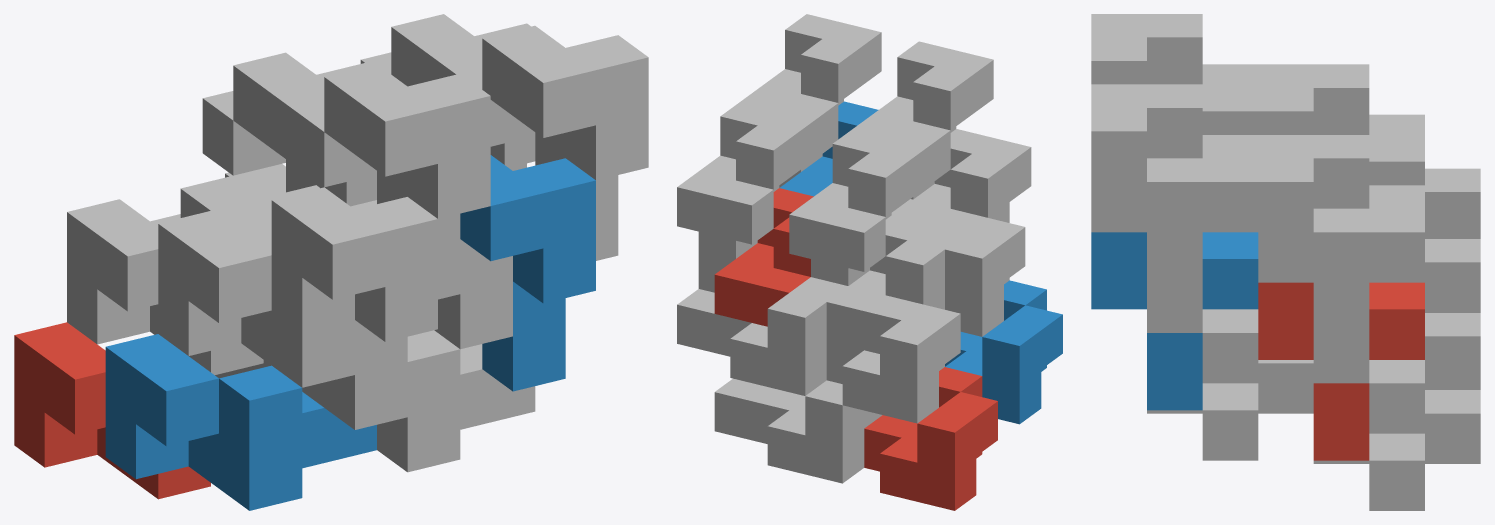
File: tiling.obj
The picture shows the model from 3 angles, left to right: view 1: azimuth 30°, elevation 25°; view 2: azimuth 150°, elevation 25°; view 3: azimuth 270°, elevation 25°; orthographic projection. The views are drawn at different scales.
Parts seen in each view (by area): view 1: copy_1_domain_2, copy_2_domain_2, copy_2_domain_4, copy_2_domain_8, copy_1_domain_4, copy_2_domain_6, copy_1_domain_1, copy_1_domain_3, copy_1_domain_6, copy_2_domain_3, copy_2_domain_7, copy_1_domain_8 (+2 smaller); view 2: copy_2_domain_7, copy_2_domain_3, copy_1_domain_1, copy_1_domain_7, copy_1_domain_5, copy_1_domain_3, copy_2_domain_8, copy_2_domain_4, copy_2_domain_1, copy_1_domain_2, copy_2_domain_2, copy_1_domain_4 (+2 smaller); view 3: copy_2_domain_8, copy_2_domain_7, copy_2_domain_5, copy_2_domain_6, copy_1_domain_7, copy_2_domain_4, copy_2_domain_3, copy_1_domain_5, copy_1_domain_6, copy_1_domain_8, copy_1_domain_3.
Part boxes in pixels (x1=…): copy_1_domain_2: x1=105, y1=334, x2=376, y2=510; copy_2_domain_2: x1=241, y1=187, x2=437, y2=429; copy_2_domain_4: x1=294, y1=64, x2=490, y2=299; copy_2_domain_8: x1=452, y1=25, x2=648, y2=260; copy_1_domain_4: x1=158, y1=211, x2=354, y2=387; copy_2_domain_6: x1=460, y1=155, x2=595, y2=391; copy_1_domain_1: x1=14, y1=322, x2=210, y2=499; copy_1_domain_3: x1=67, y1=199, x2=263, y2=374; copy_1_domain_6: x1=263, y1=330, x2=535, y2=472; copy_2_domain_3: x1=202, y1=52, x2=376, y2=206; copy_2_domain_7: x1=360, y1=14, x2=535, y2=170; copy_1_domain_8: x1=351, y1=200, x2=512, y2=349; copy_2_domain_7: x1=677, y1=100, x2=816, y2=292; copy_2_domain_3: x1=789, y1=128, x2=928, y2=285; copy_1_domain_1: x1=864, y1=367, x2=997, y2=510; copy_1_domain_7: x1=677, y1=277, x2=847, y2=395; copy_1_domain_5: x1=714, y1=378, x2=882, y2=483; copy_1_domain_3: x1=826, y1=289, x2=960, y2=423; copy_2_domain_8: x1=742, y1=14, x2=881, y2=187; copy_2_domain_4: x1=854, y1=41, x2=993, y2=199; copy_2_domain_1: x1=826, y1=215, x2=965, y2=353; copy_1_domain_2: x1=945, y1=280, x2=1062, y2=424; copy_2_domain_2: x1=892, y1=129, x2=1031, y2=233; copy_1_domain_4: x1=945, y1=202, x2=1025, y2=336; copy_2_domain_8: x1=1091, y1=84, x2=1258, y2=332; copy_2_domain_7: x1=1258, y1=135, x2=1424, y2=383; copy_2_domain_5: x1=1258, y1=282, x2=1424, y2=460; copy_2_domain_6: x1=1091, y1=232, x2=1258, y2=410; copy_1_domain_7: x1=1369, y1=239, x2=1480, y2=433; copy_2_domain_4: x1=1091, y1=14, x2=1258, y2=134; copy_2_domain_3: x1=1258, y1=64, x2=1424, y2=185; copy_1_domain_5: x1=1313, y1=386, x2=1480, y2=510; copy_1_domain_6: x1=1147, y1=360, x2=1313, y2=460; copy_1_domain_8: x1=1202, y1=309, x2=1258, y2=383; copy_1_domain_3: x1=1425, y1=168, x2=1480, y2=238.
Size of the model in its own units: 8 by 8 by 7.
